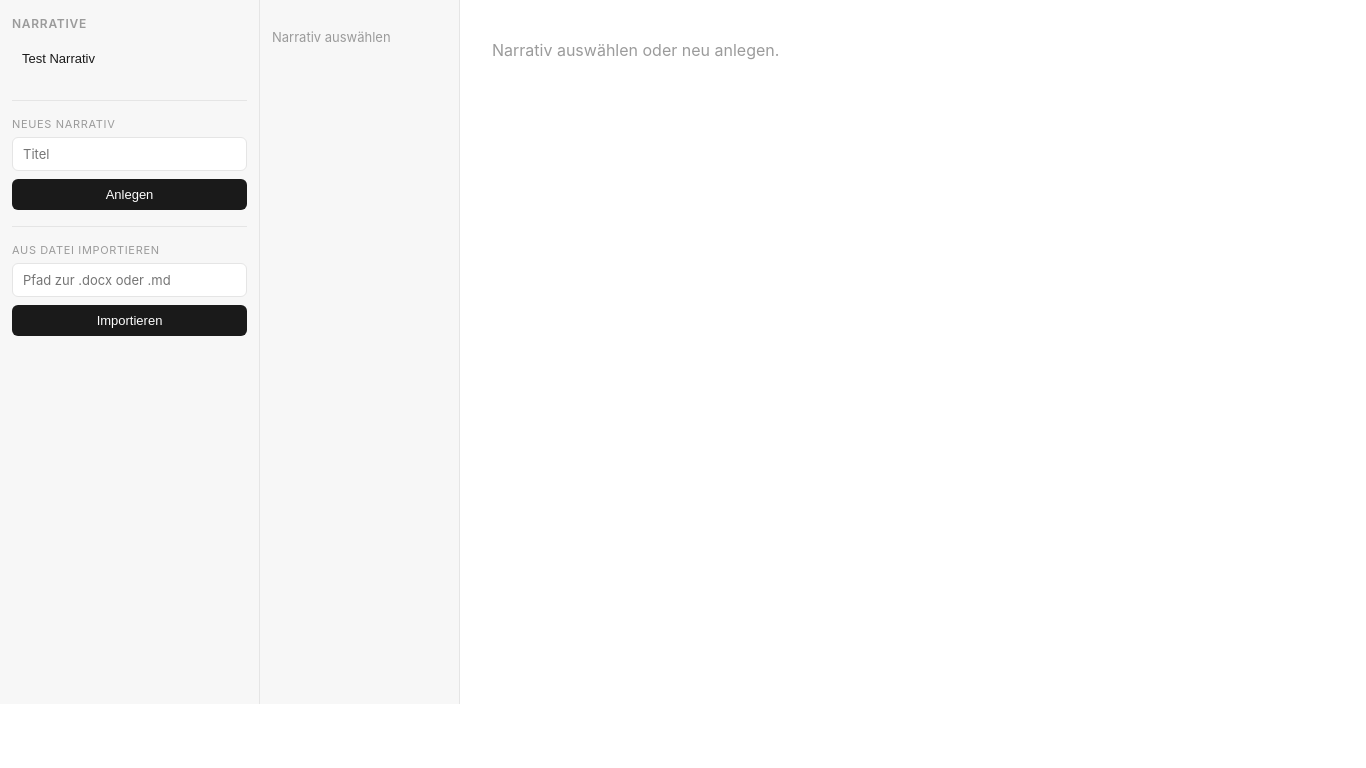
it: NarrativeEditor — Analysieren button › shows Analysieren button when a narrative is selected
Wait for narrative list to load and click it
Click the button "Test Narrativ".
click(130, 58)  # box [12,43,247,74]
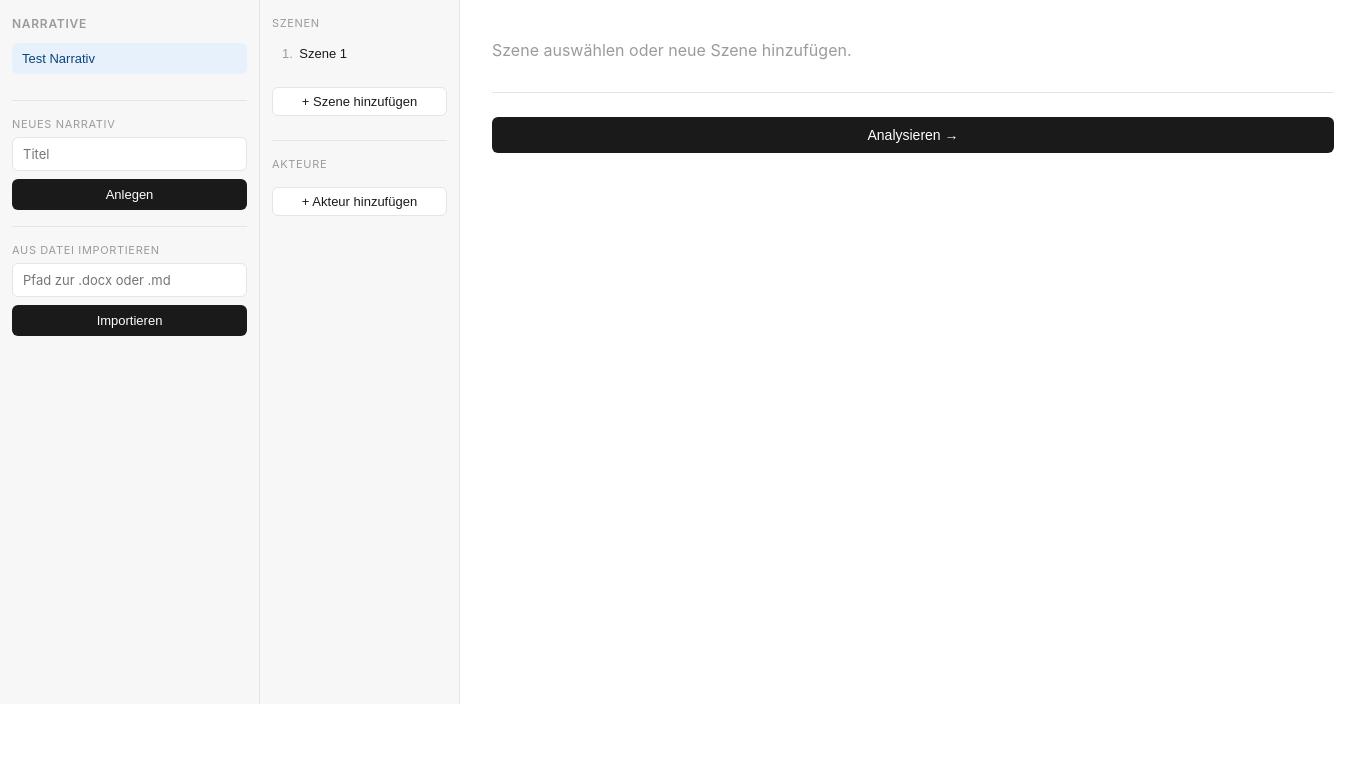
Now the button "Analysieren →" is shown, box [492,117,1334,153]
